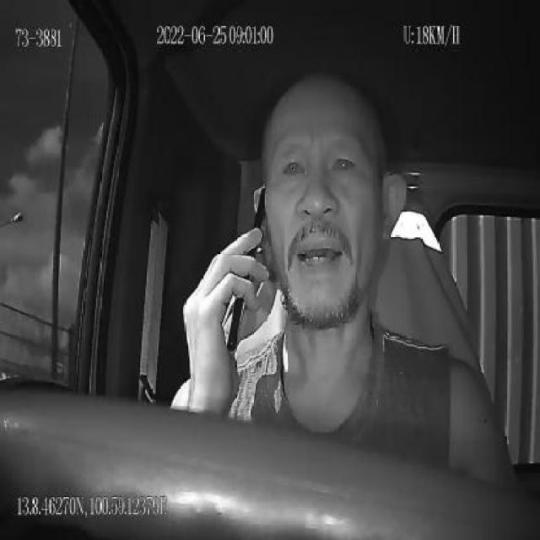phone: (228, 184, 266, 354)
